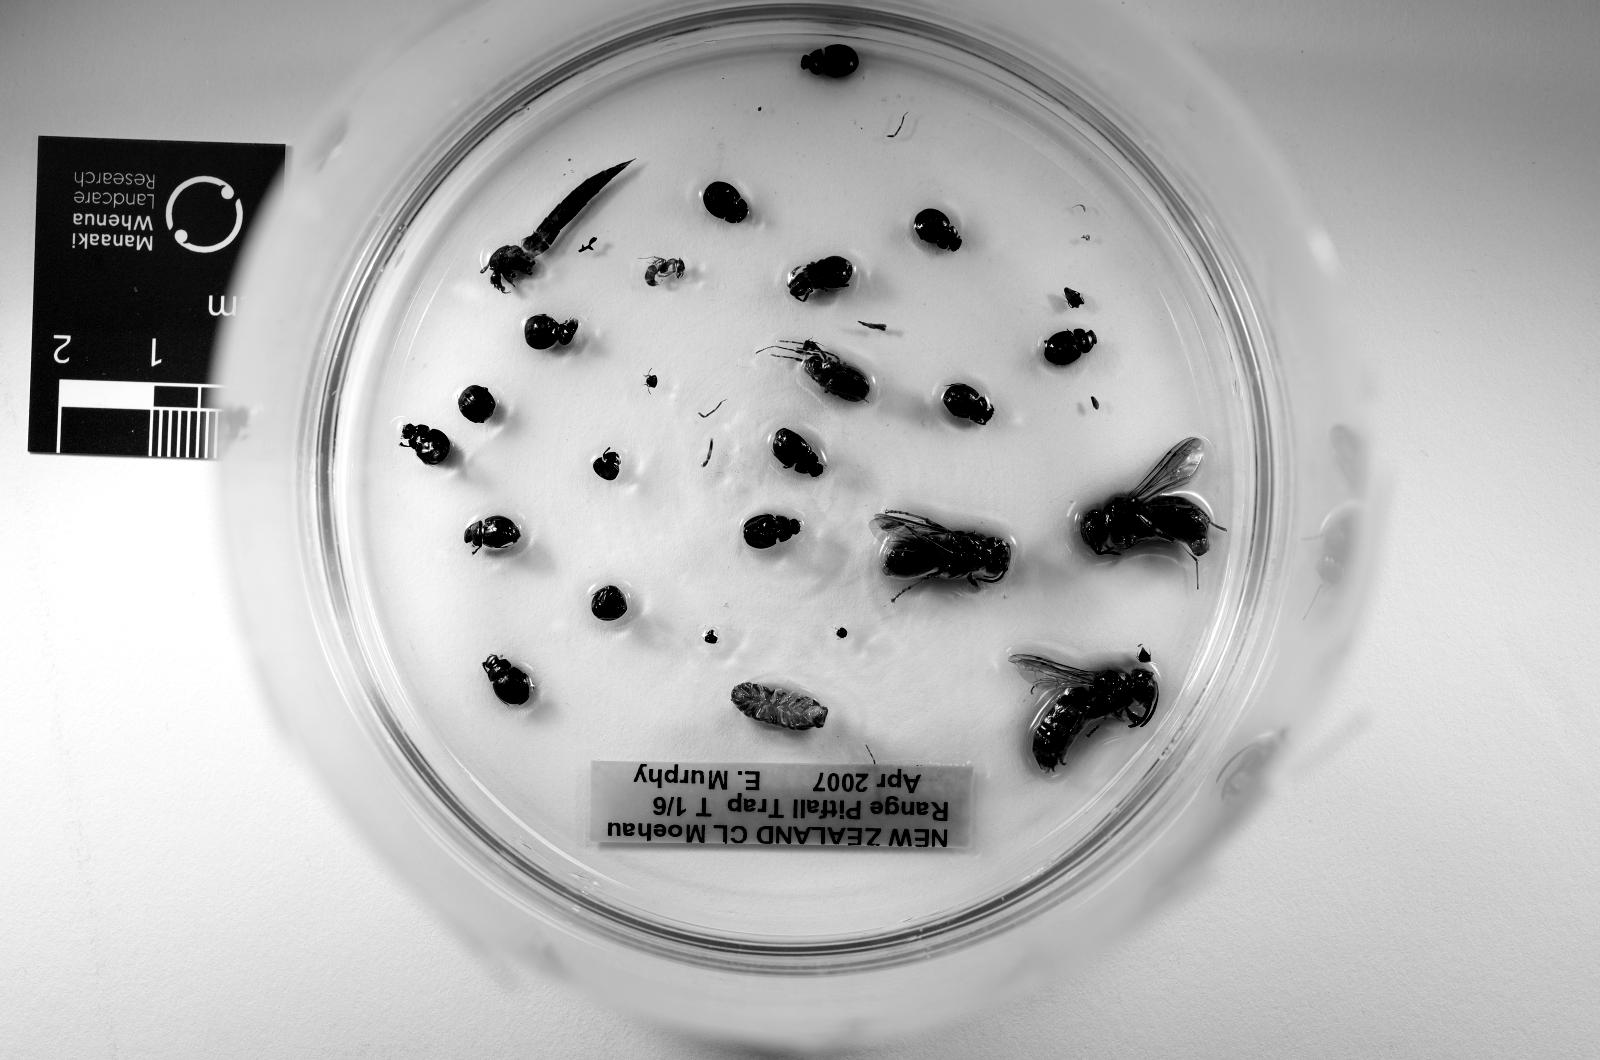coleoptera: (481, 655, 531, 705), (772, 429, 825, 475), (912, 208, 962, 252), (744, 512, 800, 550), (800, 43, 859, 78), (400, 425, 450, 466), (462, 516, 522, 550), (944, 385, 994, 425), (525, 314, 578, 351), (703, 180, 747, 224), (1044, 329, 1097, 363)
formicidae: (644, 258, 684, 286)
isopoda: (731, 683, 828, 730)
opiliones: (772, 338, 869, 401), (788, 255, 853, 301)
tipulidae: (481, 161, 631, 292)
vespidae: (1081, 438, 1225, 562), (1009, 655, 1159, 773), (872, 509, 1012, 596)
